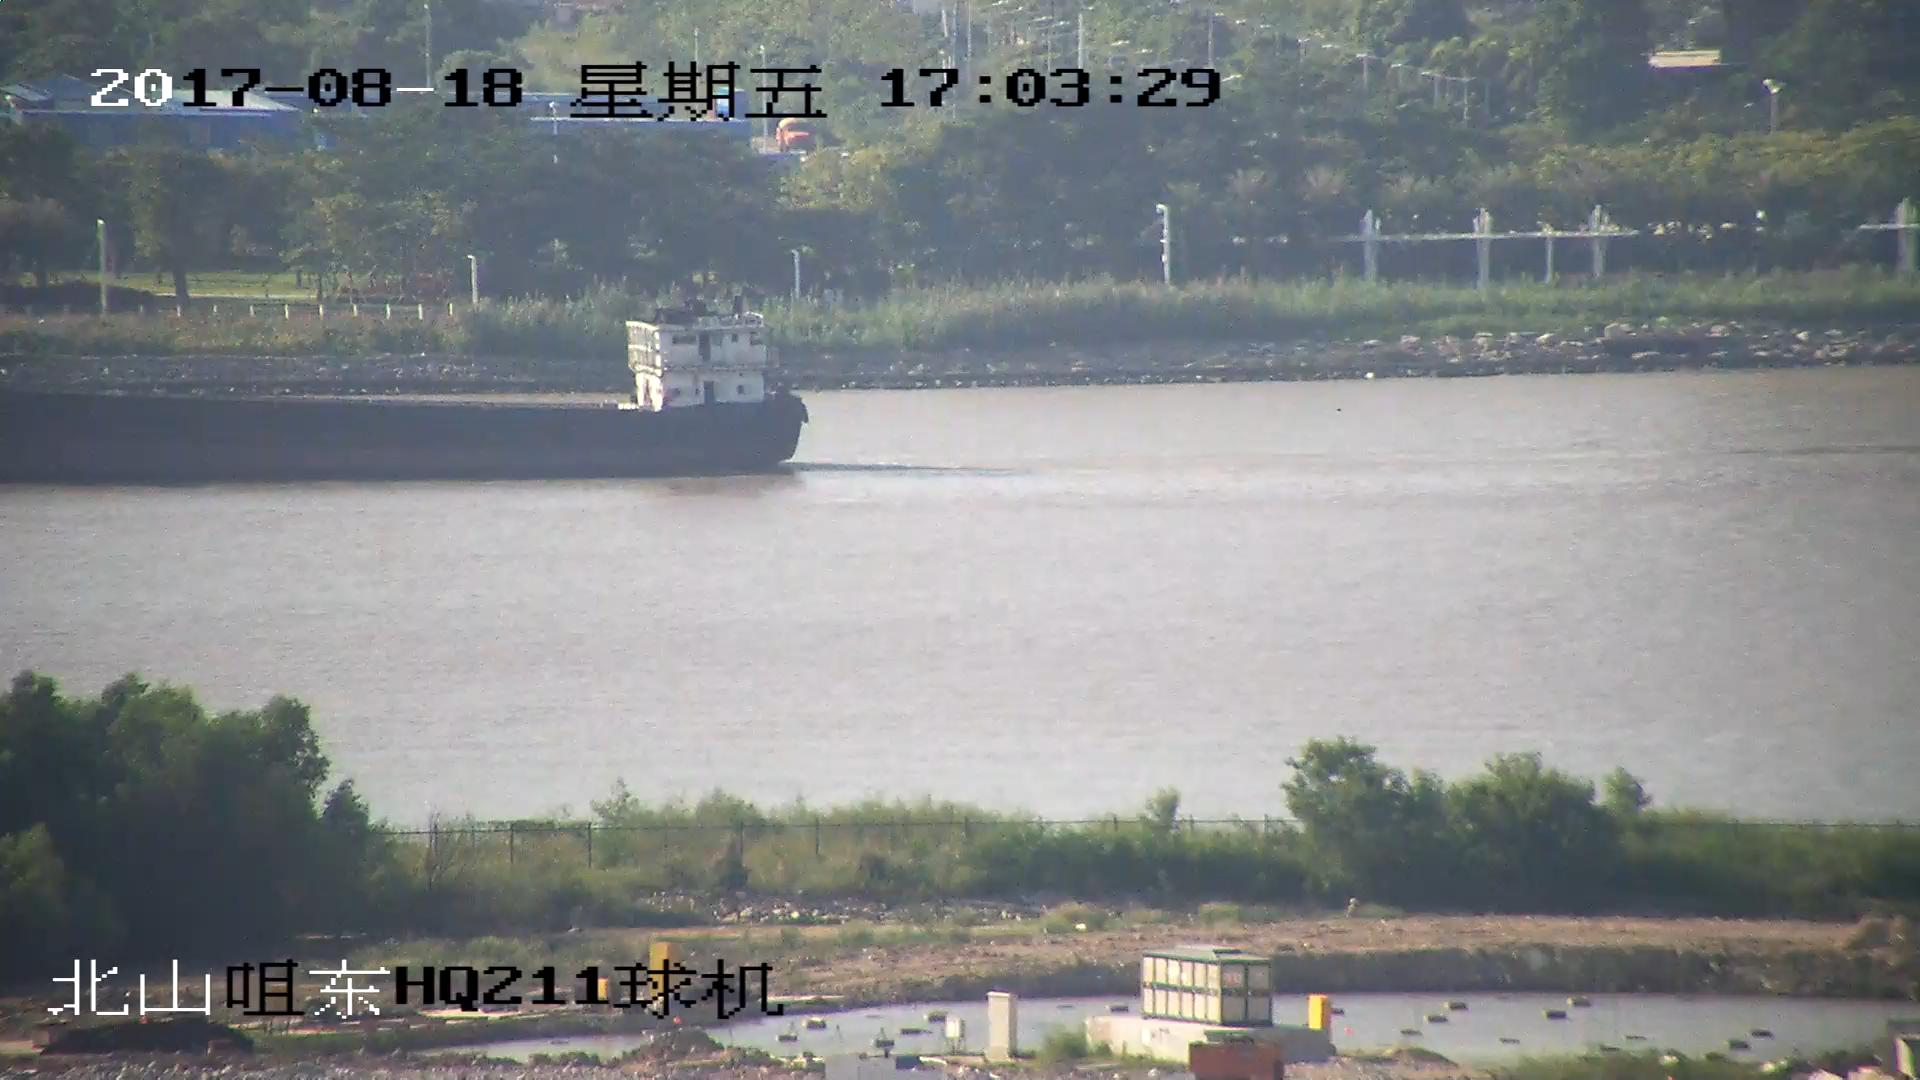general cargo ship: (1, 305, 810, 473)
